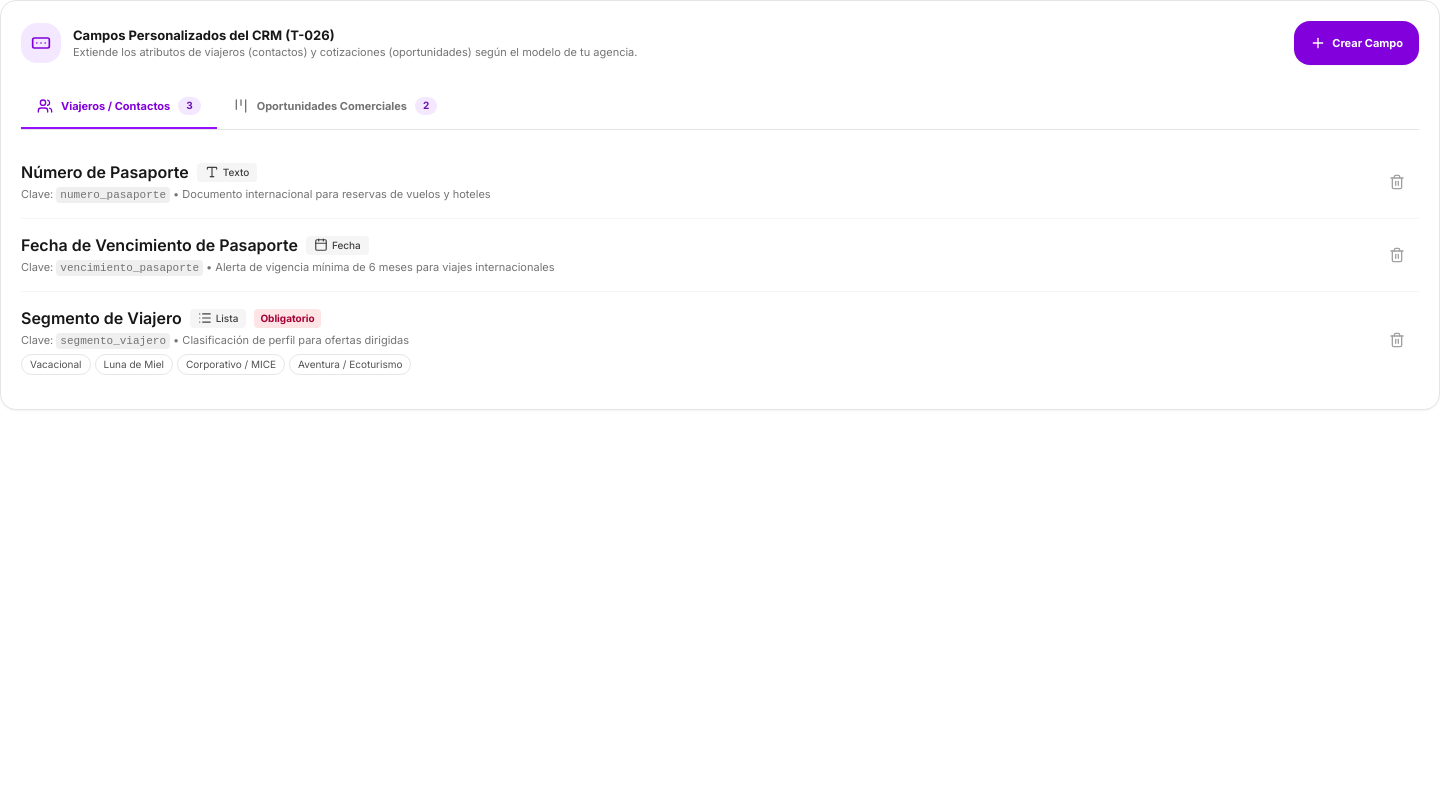
Scenario: BloqueCamposPersonalizados (T-026) › valida que el nombre no esté vacío al crear un nuevo campo
What coordinates should you click on to do the following:
click the button "Crear Campo"
I would click on:
 (1357, 43)
Its box is [1294,21,1419,65].
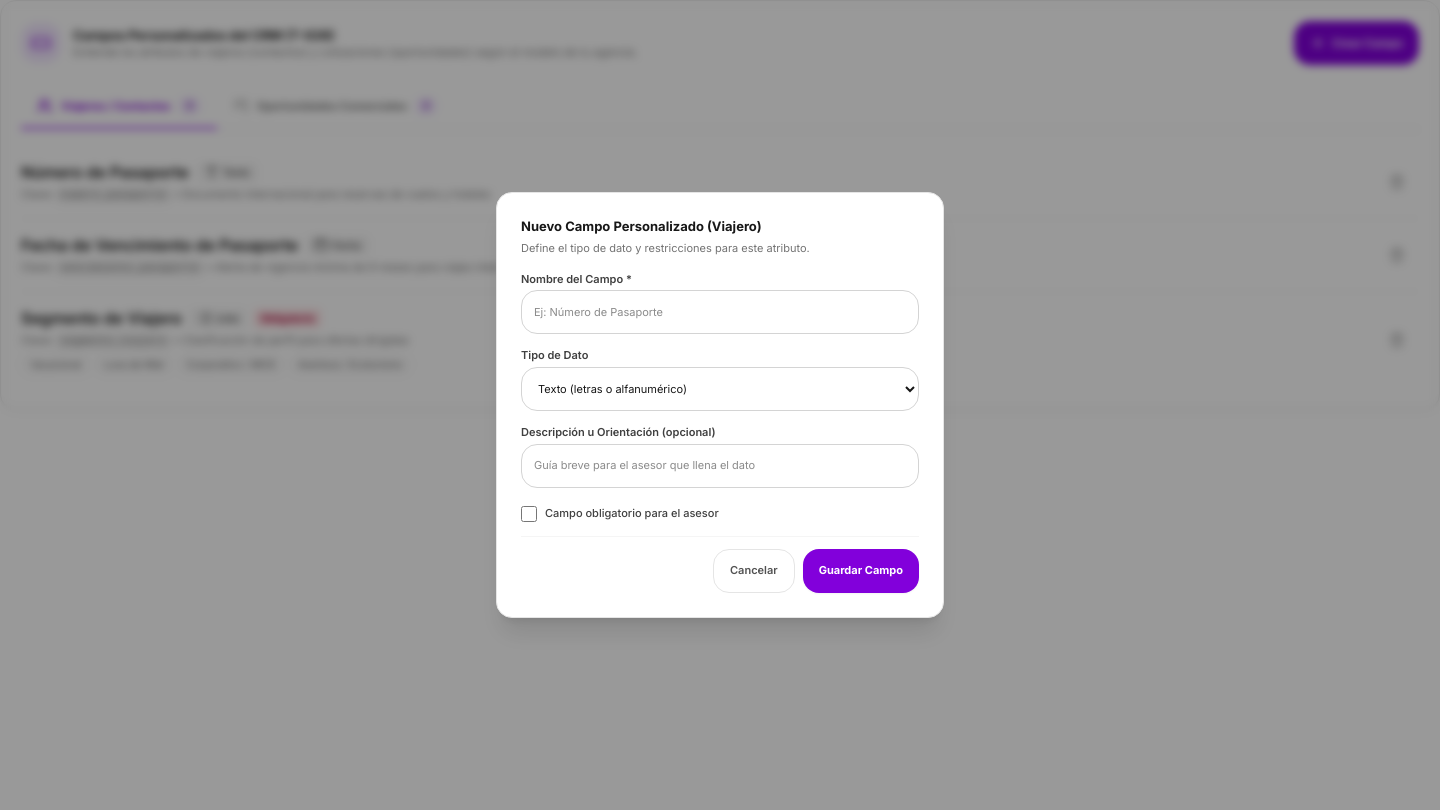
Check: the heading "Nuevo Campo Personalizado (Viajero)" is shown, box [521,218,762,234]
What coordinates should you click on to do the following:
click the button "Guardar Campo"
I would click on:
 (861, 571)
Its box is [803,549,919,593].
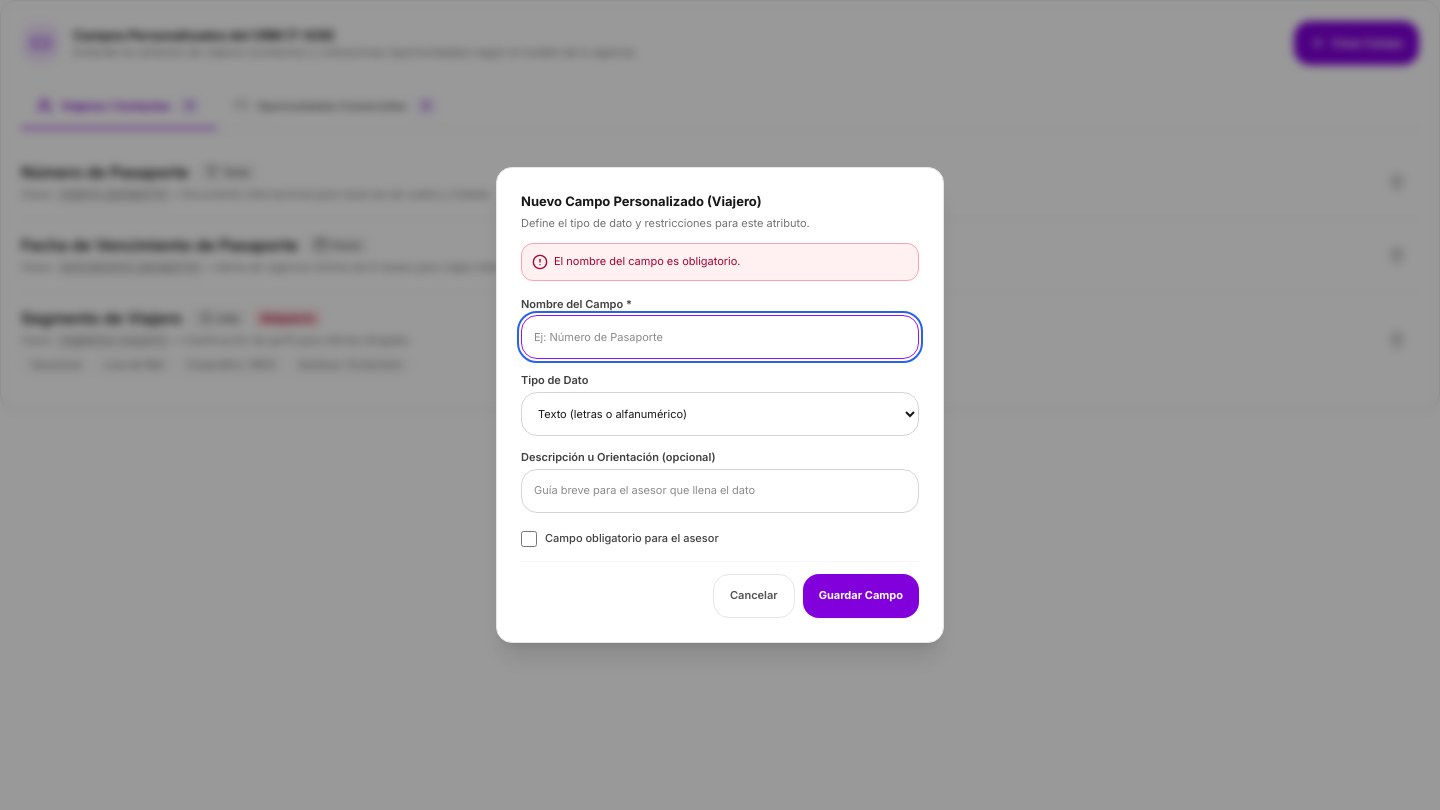
Check: the text "El nombre del campo es obligatorio." is shown, box [554,254,740,269]
